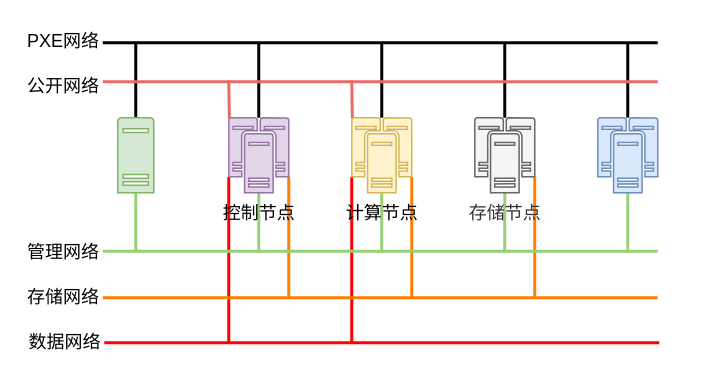
This 707x383 diagram has some shape labels left out. Each missing label, with the box of its shape:
监控运维节点: (596, 116, 658, 193)
部署节点: (116, 116, 154, 193)
